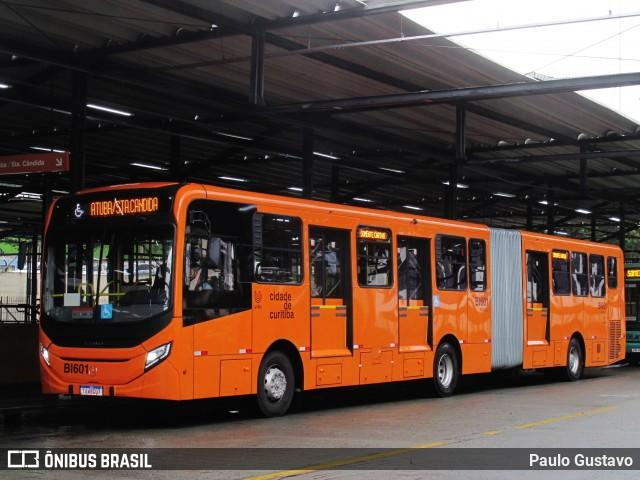ATUBA STACANDIDA: (87, 193, 166, 220)
